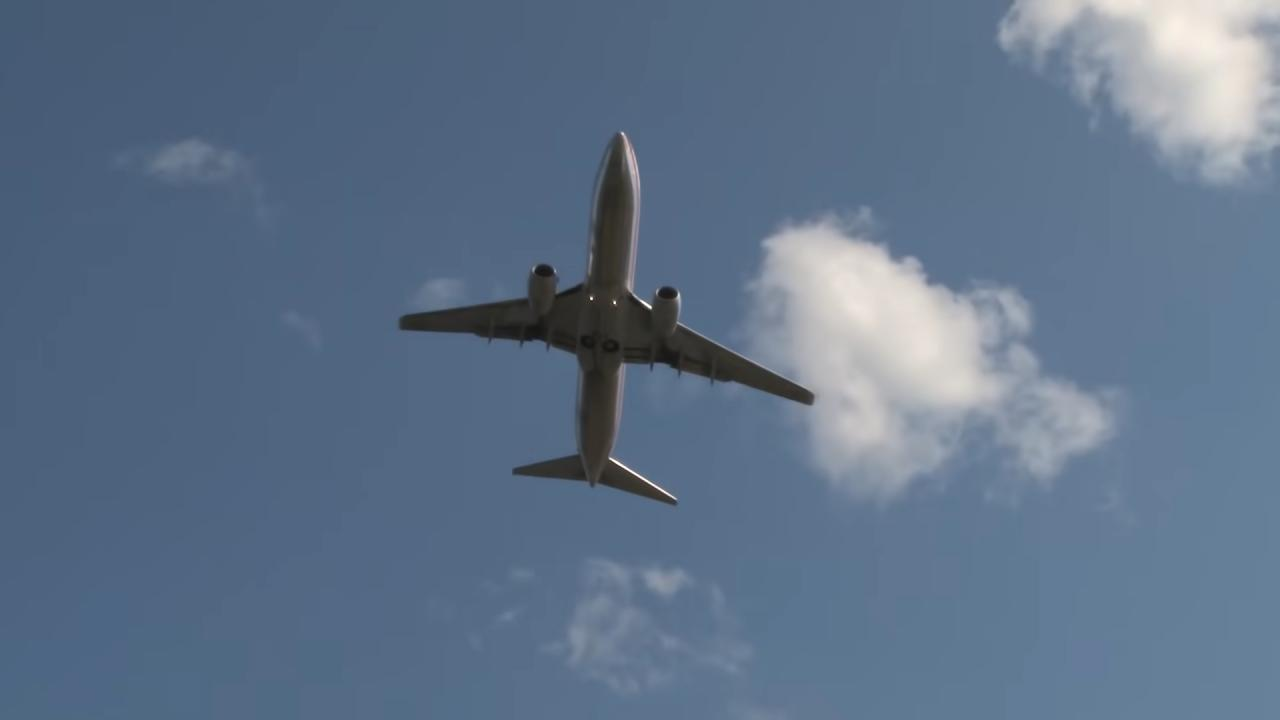Airplane: (382, 118, 833, 526)
